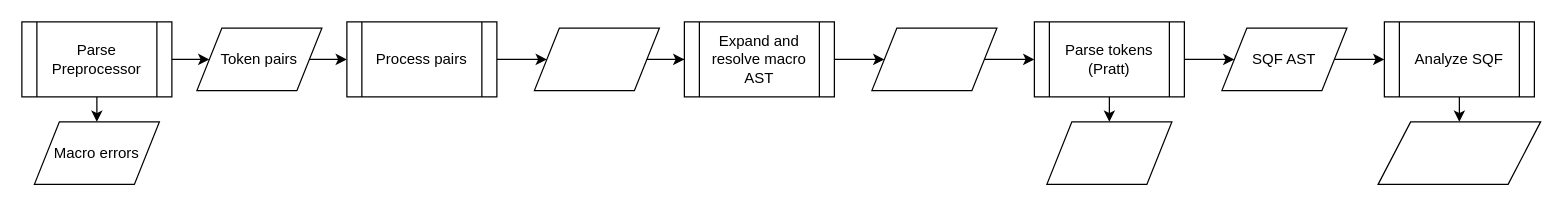
Image size: 1563x206. Some labels were removed from this diagram. Here are the shapes that lost their labels. From the top down, the box of each, then its label:
(533, 27, 659, 91): macros AST
(871, 27, 997, 91): SQF tokens
(1046, 121, 1172, 184): Syntax errors
(1377, 121, 1541, 184): Static analysis errors
